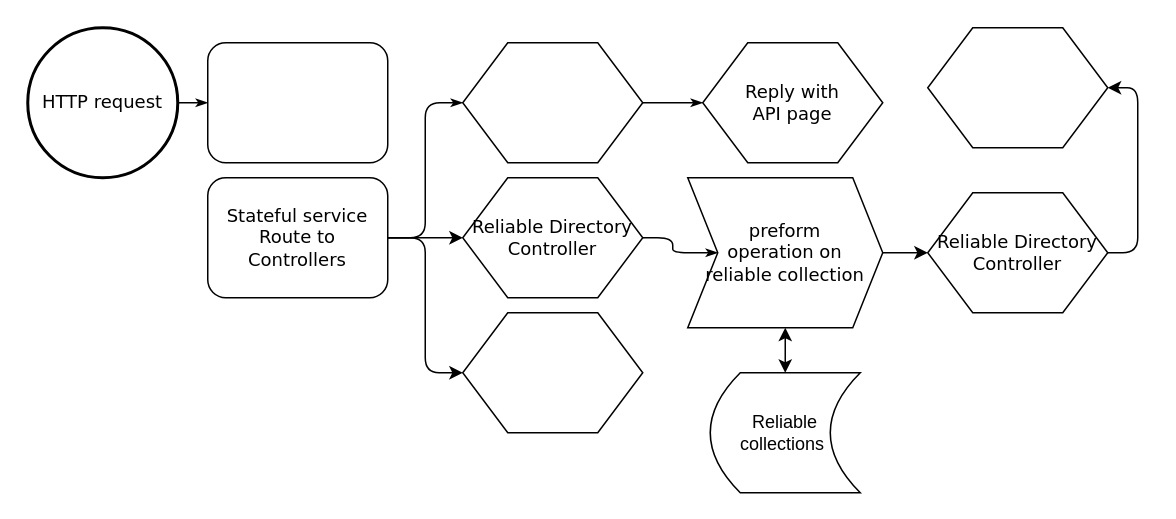
This 1176x519 diagram has some shape labels left out. The shapes that lost their labels are listed below. From the top down, each one's centre as x and y in pixels, then its label:
the point at 297,102: Kestle Web server
the point at 552,102: Swagger API tool
the point at 1017,87: Send response http to client
the point at 552,372: route not found 404
